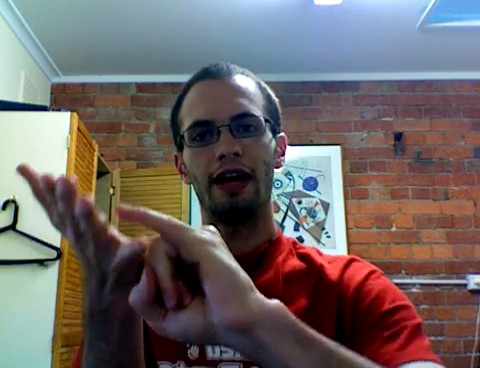S: (11, 143, 257, 351)
